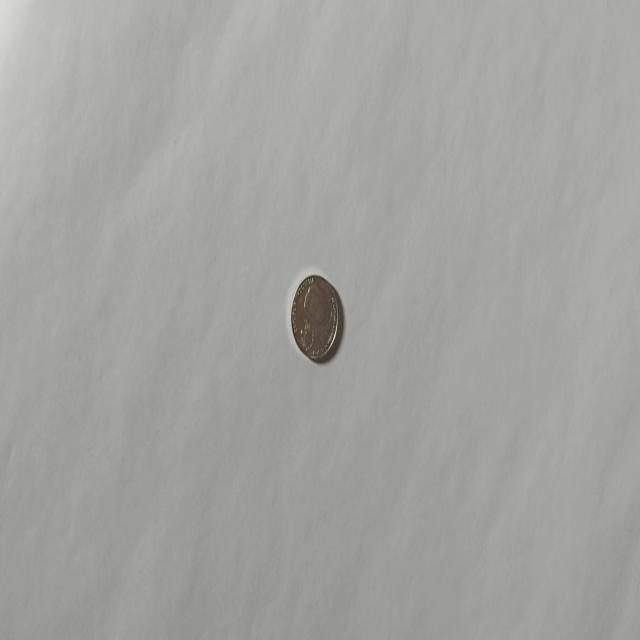seratus rupiah: (290, 272, 339, 363)
